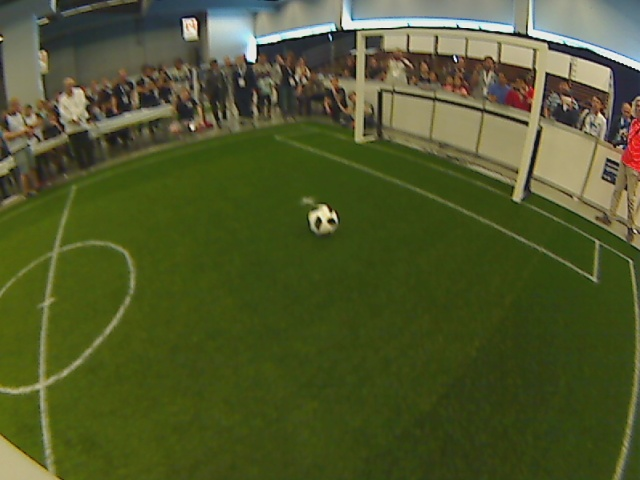ball: (305, 202, 340, 234)
